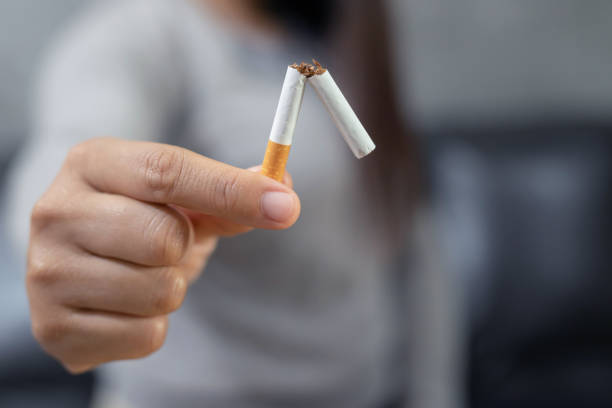cigarette: (307, 67, 378, 161), (261, 61, 314, 181)
